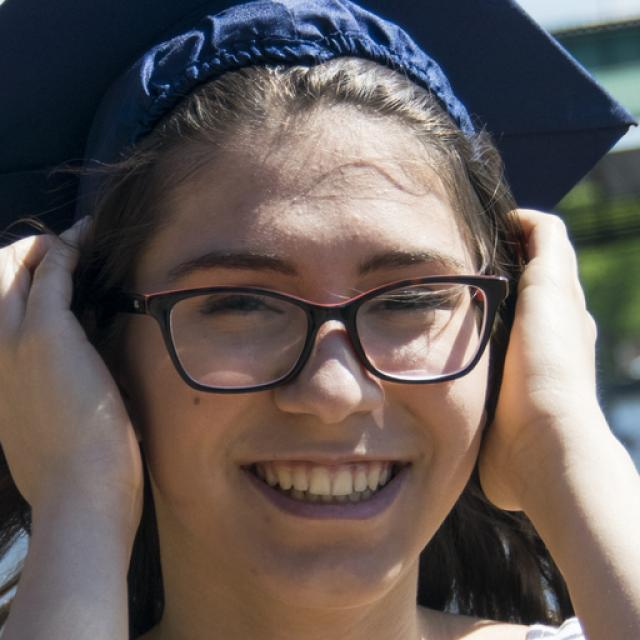Acne: (303, 232, 324, 249), (348, 211, 366, 226), (329, 139, 344, 157), (348, 227, 365, 241), (287, 192, 303, 206), (334, 166, 352, 178)
